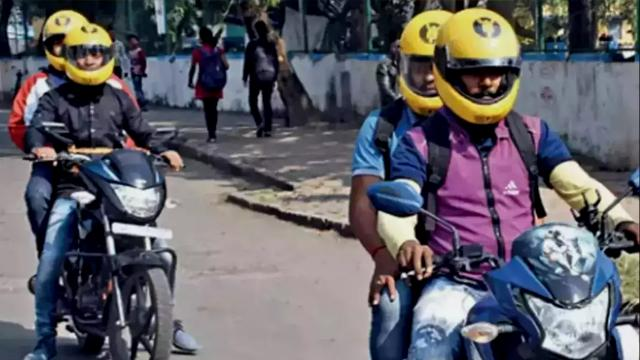licensePlate: (116, 221, 173, 244)
motorcycle: (360, 8, 640, 360), (13, 2, 183, 360)
withHelmet: (442, 11, 524, 123), (393, 17, 459, 121), (41, 6, 85, 69), (68, 23, 114, 82)
